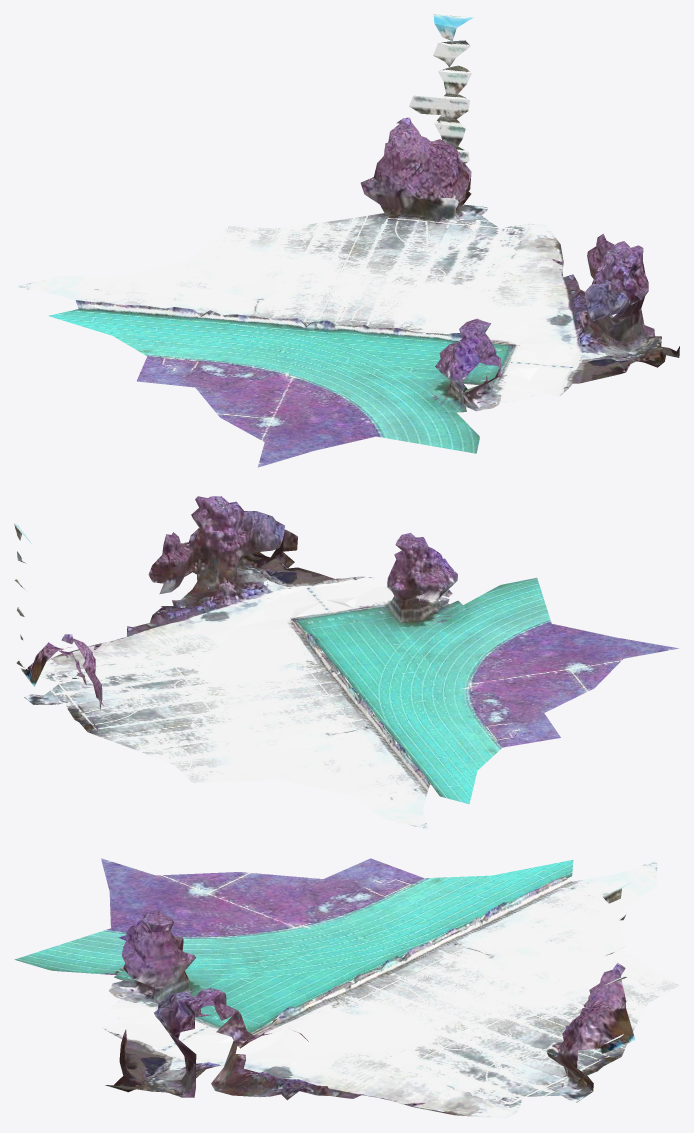
Rendered from Tile_+012_+018_L19_000011.glb.
3 views of the same model, one above another, from view 1: azimuth 30°, elevation 25°; view 2: azimuth 150°, elevation 25°; view 3: azimuth 270°, elevation 25° (orthographic). The views are drawn at different scales.
Visible parts, largest first — view 1: rtc; view 2: rtc; view 3: rtc.
Part boxes in pixels (x1,y1,x2,y2): rtc: [14, 14, 679, 467]; rtc: [14, 496, 679, 829]; rtc: [14, 858, 679, 1118].
Bounding box in the file's own units: 62.06 × 23.44 × 67.61.
Materials: 1 (1 with a texture image).
